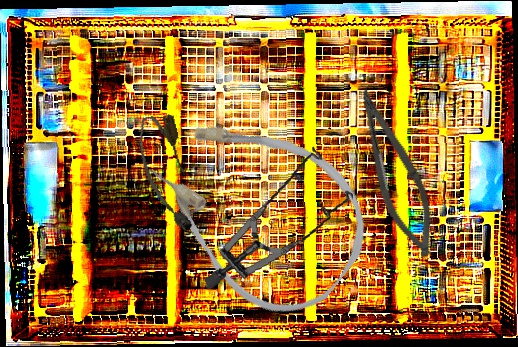Cannula: (121, 77, 395, 340), (132, 111, 200, 236)
Micro Scissor: (336, 81, 452, 264)
Speculum: (188, 141, 364, 291)
